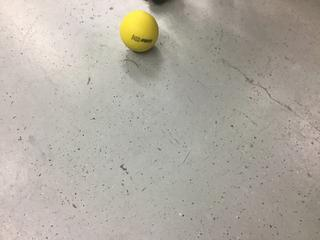power_cell: (114, 9, 163, 57)
